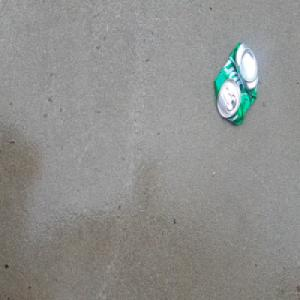SodaCan: (213, 39, 259, 127)
